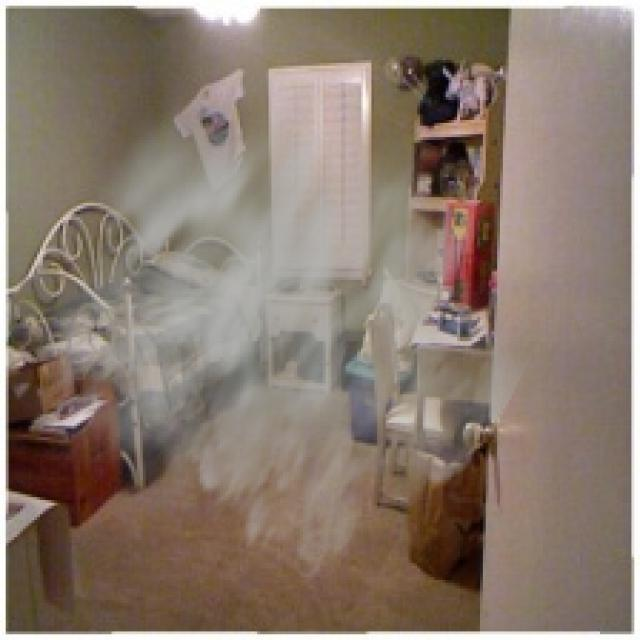Smoke: (14, 20, 554, 586)
